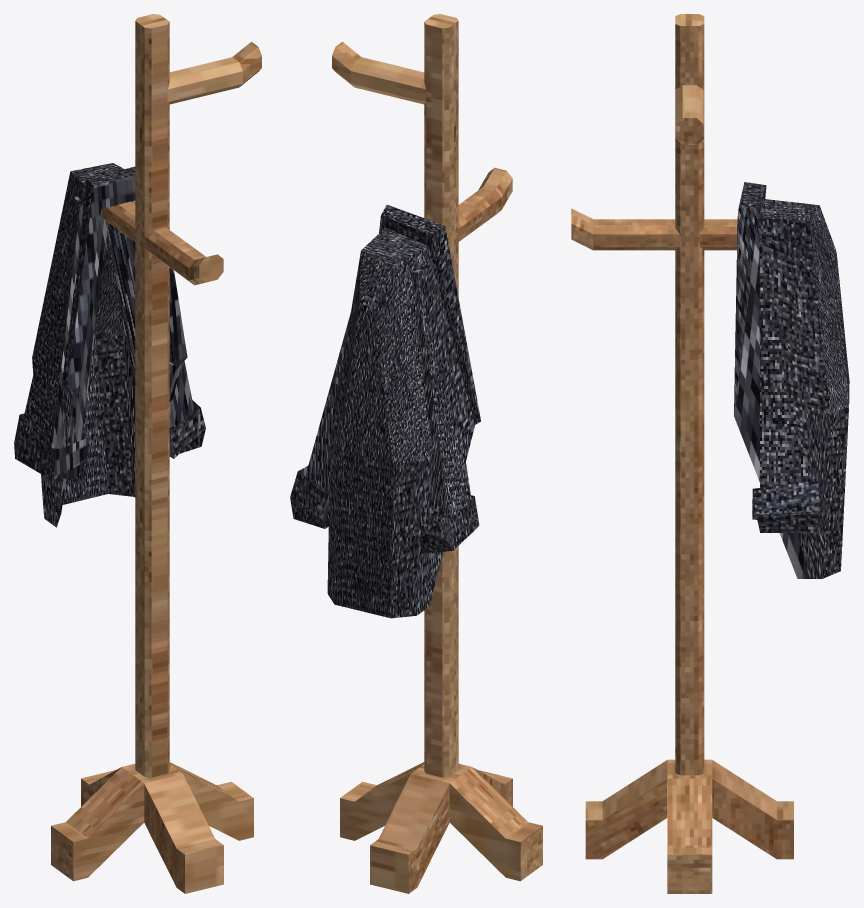
Rendered from coatrack.fbx.
The picture shows the model from 3 angles, left to right: view 1: azimuth 30°, elevation 25°; view 2: azimuth 150°, elevation 25°; view 3: azimuth 270°, elevation 25°; orthographic projection.
Visible parts, largest first — view 1: coatrack, coat; view 2: coat, coatrack; view 3: coatrack, coat.
Boxes of the visible parts, box(x1,y1,x2,y2) form: coatrack: box(51, 14, 261, 893); coat: box(14, 163, 205, 527); coat: box(290, 204, 480, 618); coatrack: box(332, 14, 542, 893); coatrack: box(571, 14, 793, 893); coat: box(734, 182, 849, 578).
Size of the model in its own units: 227 by 936 by 284.
